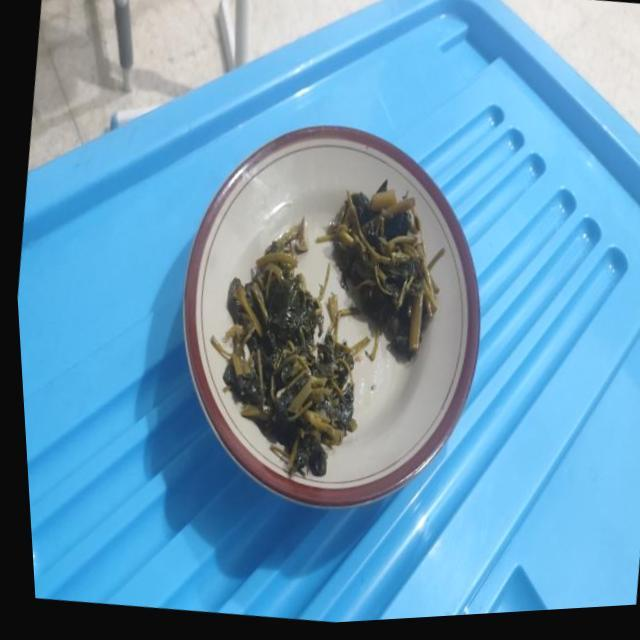tumis_kangkung: (223, 253, 369, 476), (328, 180, 438, 358)
